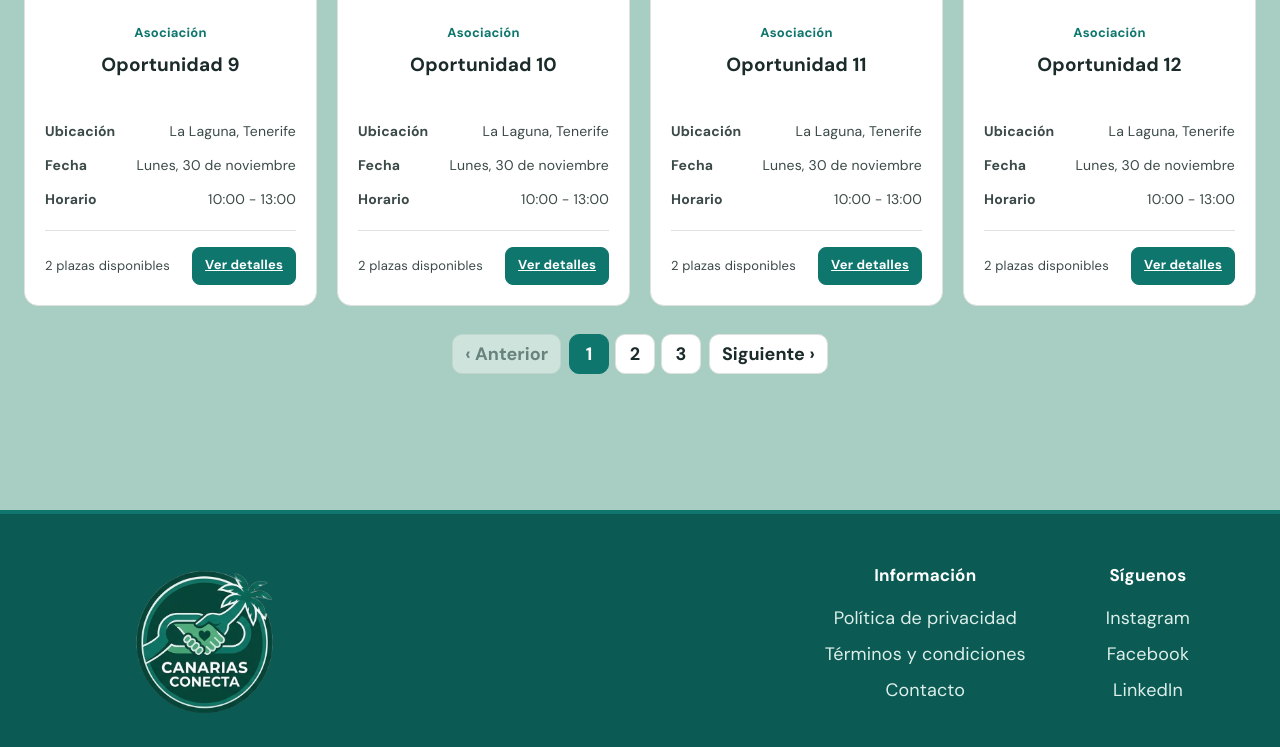
Test: Oportunidades: paginacion › si la pagina pedida llega vacia, salta a la ultima que tenga ofertas
(page scrolled)
Step 1. Click the button named "Página 3" → click(681, 354), box [661,334,701,374]
(page scrolled)
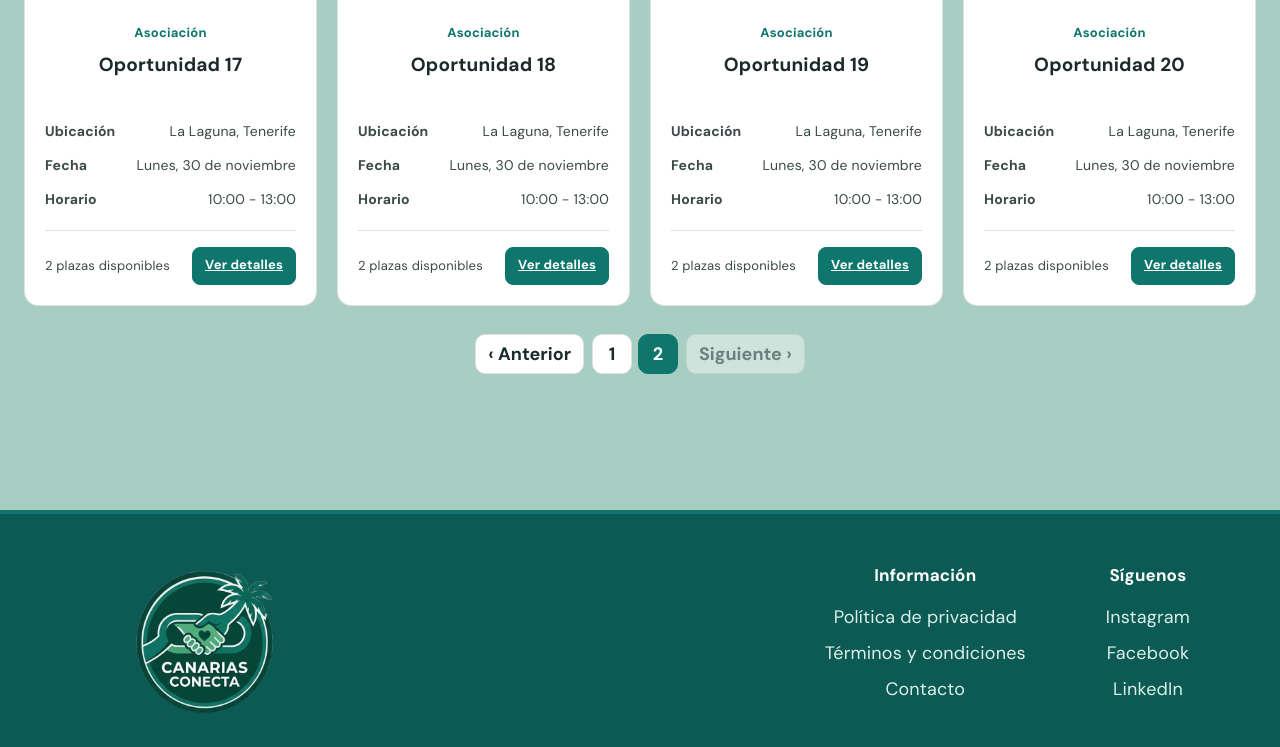
Expected: the button named "Página 2" is marked as current, [638,334,678,374]
